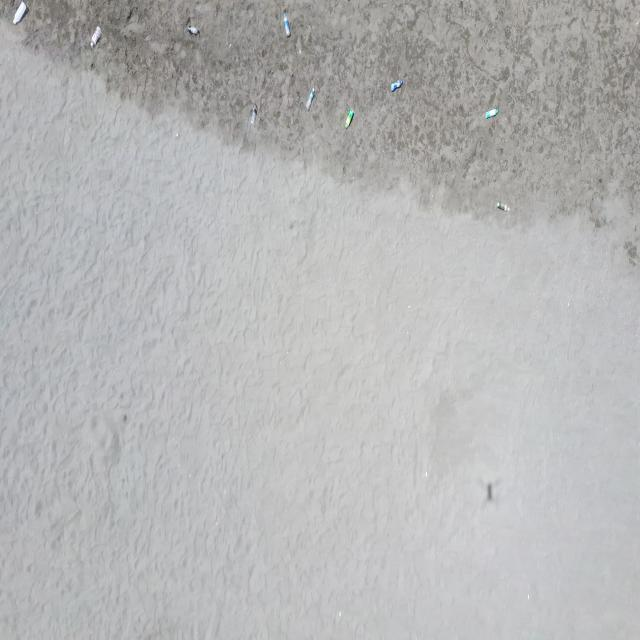Garbage: (12, 0, 27, 24), (304, 87, 315, 110), (89, 26, 100, 47), (344, 108, 353, 128), (283, 9, 289, 36), (248, 103, 256, 123), (184, 24, 198, 35), (391, 79, 403, 91), (484, 108, 497, 119), (496, 201, 508, 211), (486, 483, 492, 500)
